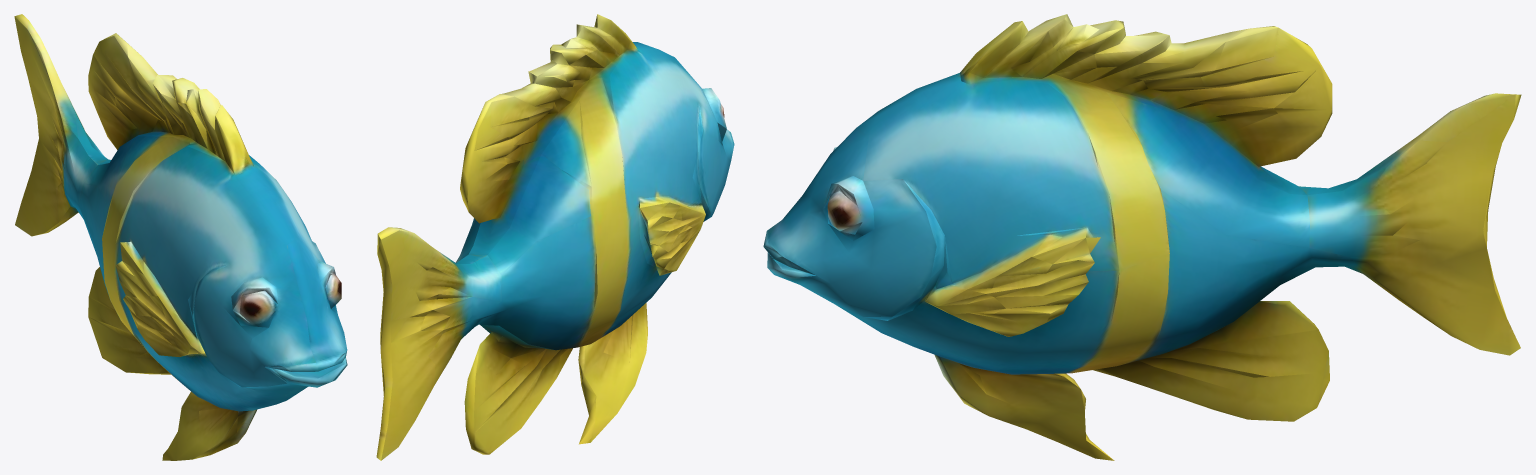
The model's file is tropicalFish.glb.
The picture shows the model from 3 angles, left to right: view 1: azimuth 30°, elevation 25°; view 2: azimuth 150°, elevation 25°; view 3: azimuth 270°, elevation 25°; orthographic projection. The views are drawn at different scales.
Parts seen in each view (by area): view 1: model; view 2: model; view 3: model.
Boxes of the visible parts, x1=… form: model: x1=14, y1=14, x2=347, y2=460; model: x1=376, y1=14, x2=734, y2=460; model: x1=763, y1=14, x2=1521, y2=460.
Bounding box in the file's own units: 0.533 × 1.26 × 1.9.
1 material, 1 textured.
